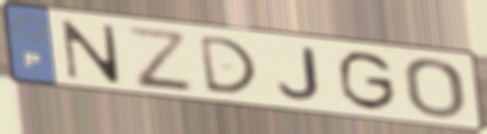D: (195, 33, 260, 96)
G: (337, 49, 399, 114)
J: (274, 45, 324, 103)
N: (59, 17, 123, 86)
O: (401, 56, 468, 121)
Z: (122, 23, 198, 92)
